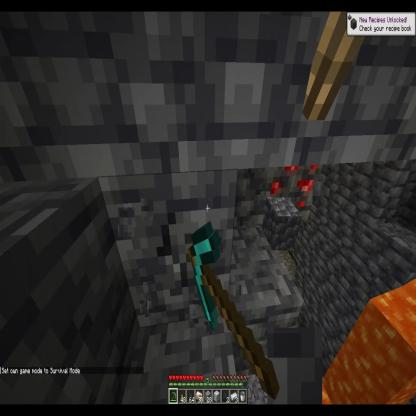redstone ore: (267, 161, 322, 228)
